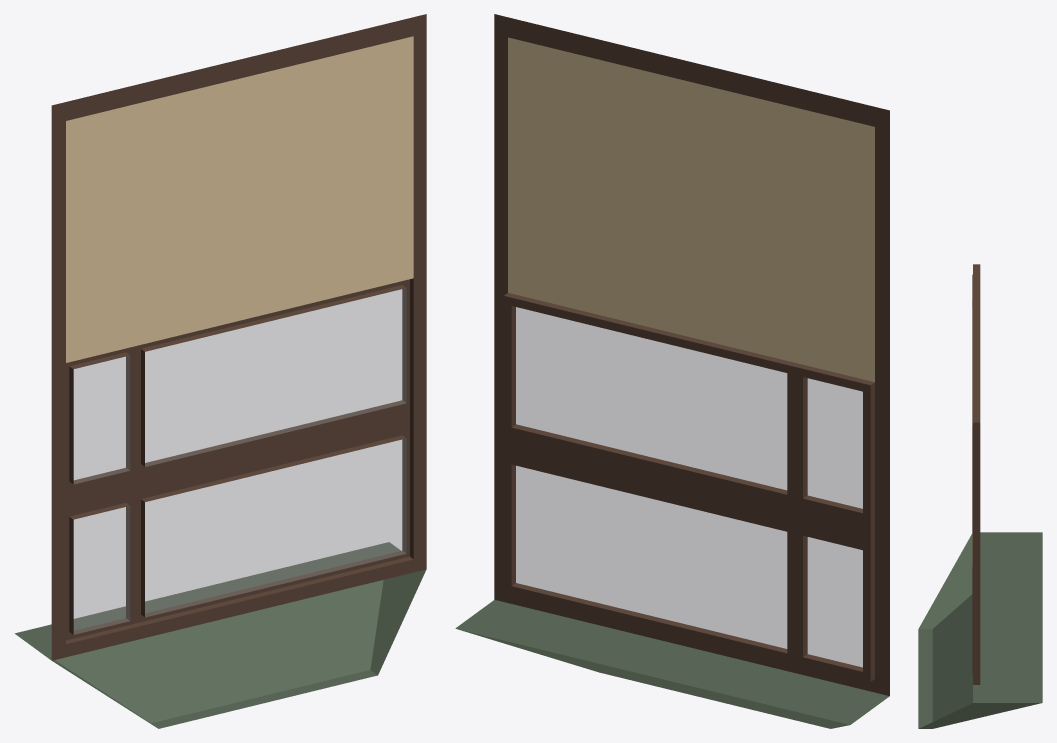
The model's file is SM_Corner_01.fbx.
3 renders of one model, left to right at view 1: azimuth 30°, elevation 25°; view 2: azimuth 150°, elevation 25°; view 3: azimuth 270°, elevation 25°, orthographic. The views are drawn at different scales.
Visible parts, largest first — view 1: Corner1; view 2: Corner1; view 3: Corner1.
Boxes of the visible parts, x1=… form: Corner1: x1=14, y1=14, x2=426, y2=728; Corner1: x1=455, y1=14, x2=889, y2=728; Corner1: x1=918, y1=264, x2=1042, y2=728.
Size of the model in its own units: 121 by 192 by 37.32.
